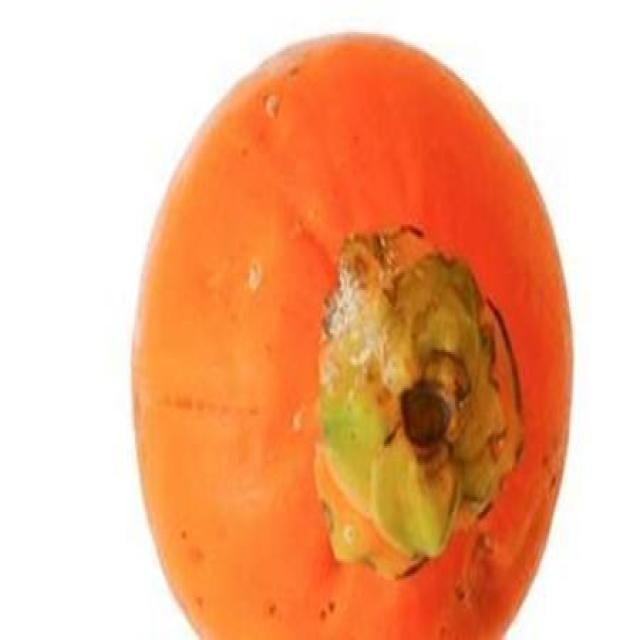good: (128, 32, 577, 638)
